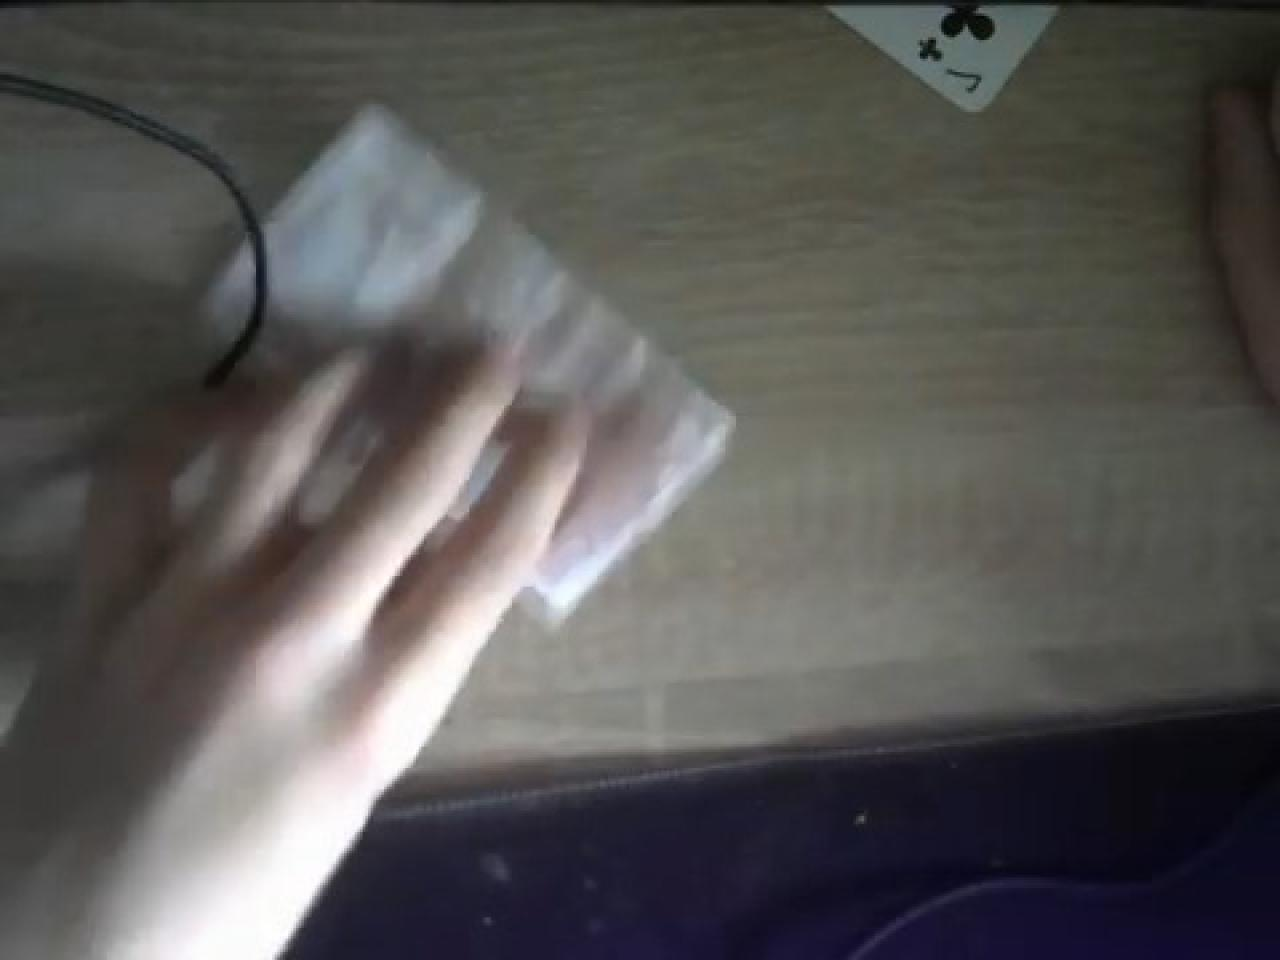5leva: (17, 83, 740, 634)
